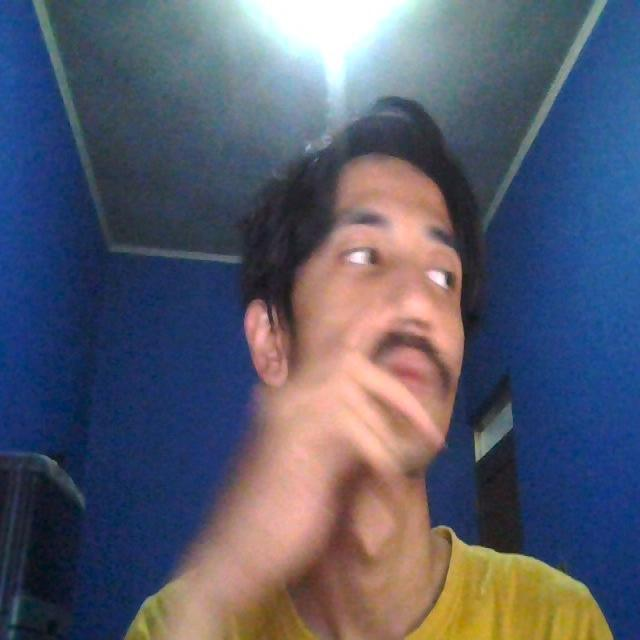movement: (198, 128, 498, 542)
